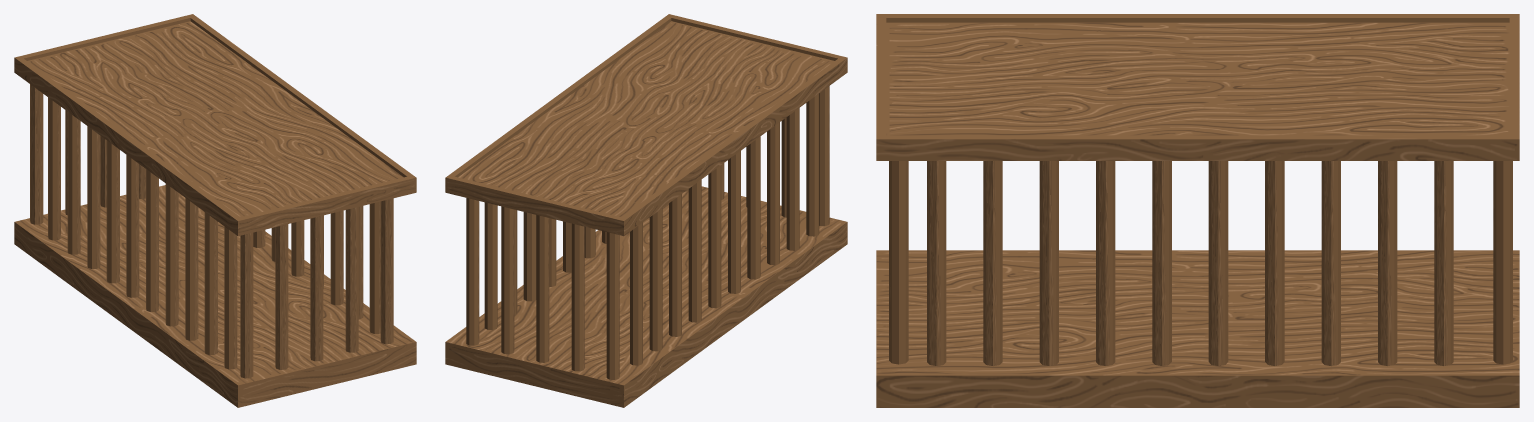
The model's file is Cage.fbx.
The picture shows the model from 3 angles, left to right: view 1: azimuth 30°, elevation 25°; view 2: azimuth 150°, elevation 25°; view 3: azimuth 270°, elevation 25°; orthographic projection. The views are drawn at different scales.
Visible parts, largest first — view 1: CageOpen; view 2: CageOpen; view 3: CageOpen.
Boxes of the visible parts, left/top/right/bottom form: CageOpen: left=14, top=14, right=416, bottom=407; CageOpen: left=445, top=14, right=847, bottom=407; CageOpen: left=876, top=14, right=1519, bottom=407.
Bounding box in the file's own units: 200 × 200 × 434.
